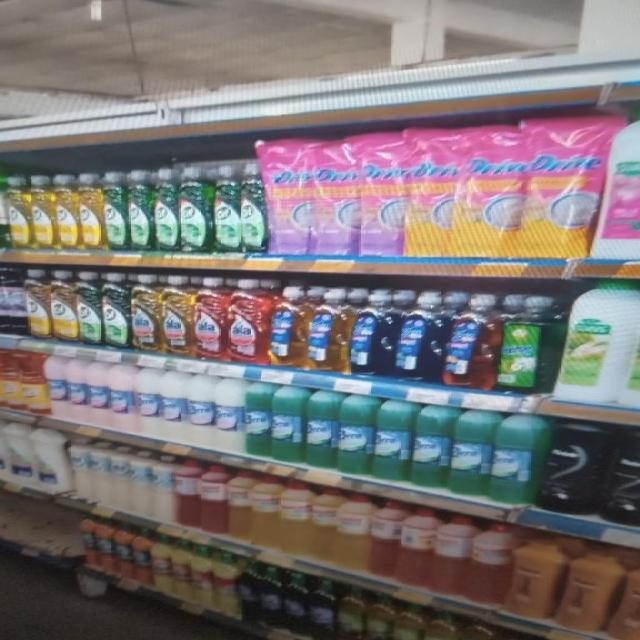ala_conc_amarillo: (162, 275, 192, 356), (130, 276, 160, 352)
ala_conc_rojo: (227, 278, 267, 364), (193, 278, 226, 360)
cif_conc_bot_amarilla: (50, 270, 76, 342), (30, 173, 54, 250), (79, 171, 102, 251), (24, 269, 49, 339), (56, 172, 78, 250), (7, 175, 29, 249)
cif_conc_botella_verde: (180, 165, 210, 253), (240, 158, 267, 254), (213, 162, 239, 254), (153, 166, 178, 252), (102, 273, 129, 348), (128, 168, 152, 252), (103, 170, 127, 251), (76, 270, 101, 346)
drive: (526, 117, 598, 259)
zorro: (444, 292, 494, 388), (394, 291, 440, 381), (348, 290, 388, 376), (306, 288, 344, 372), (373, 398, 410, 482), (412, 403, 448, 489), (269, 284, 303, 368)
